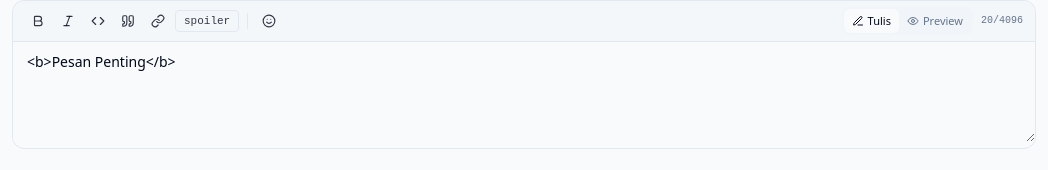
TextEditor Component › switches to preview tab and displays rendered HTML
Click the tab "Preview". click: (935, 21)
box: x1=899 y1=9 x2=971 y2=33
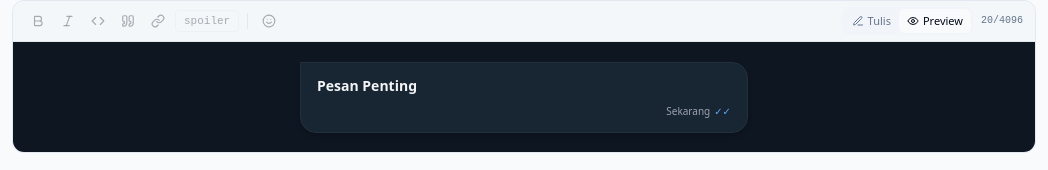
Now the text "Pesan Penting" is shown, box x1=317 y1=76 x2=417 y2=94
